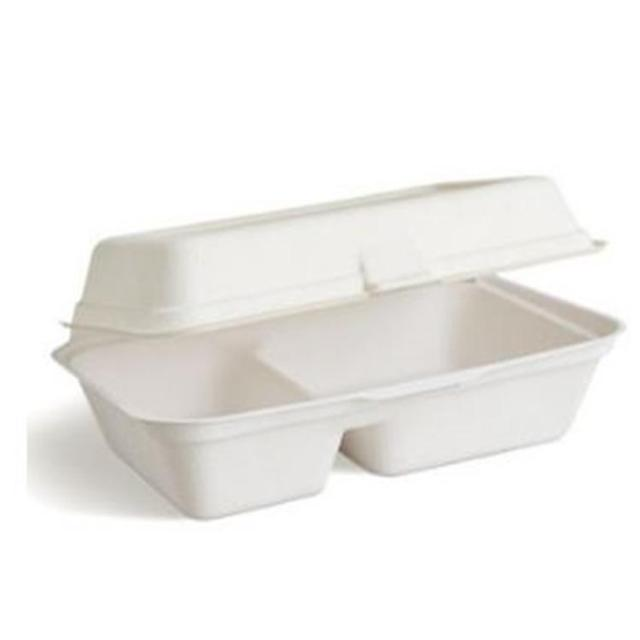styrofoam: (49, 170, 626, 520)
